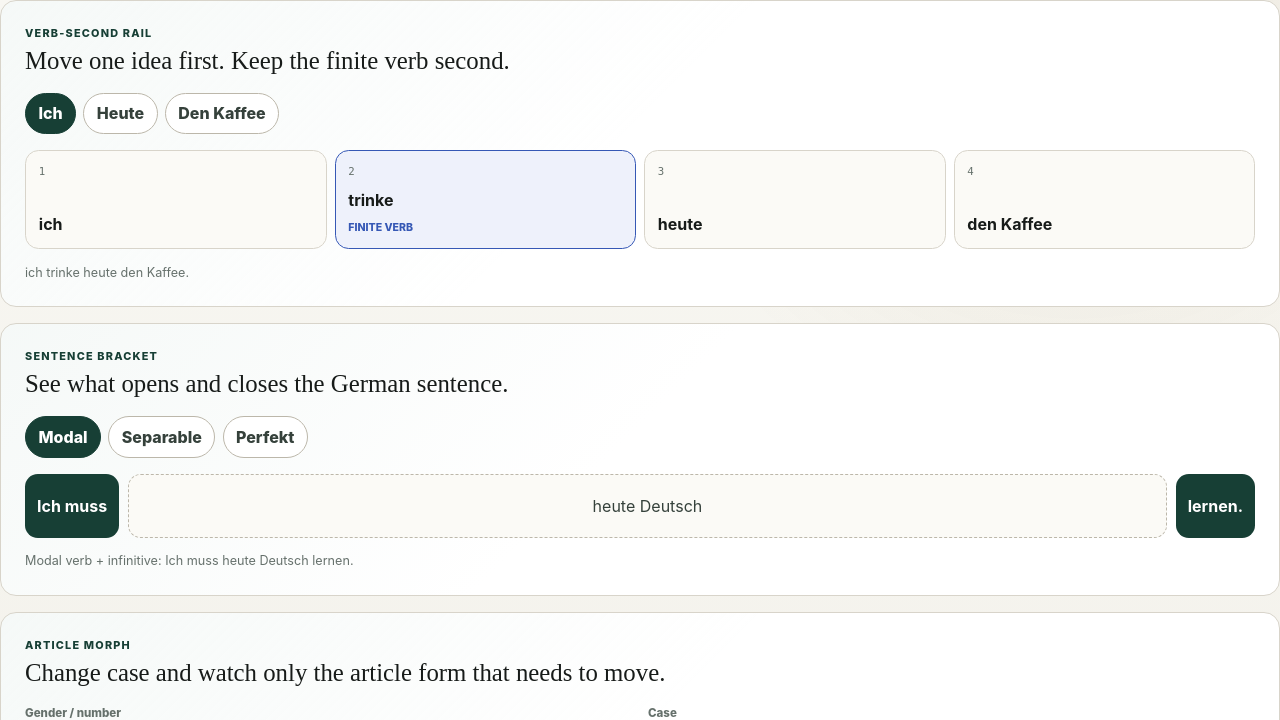
GrammarInteractionLab › moves a first-position chunk while keeping the verb second
This screenshot has width=1280, height=720.
Click the button "Heute".
click(121, 113)  # box [83,93,158,134]
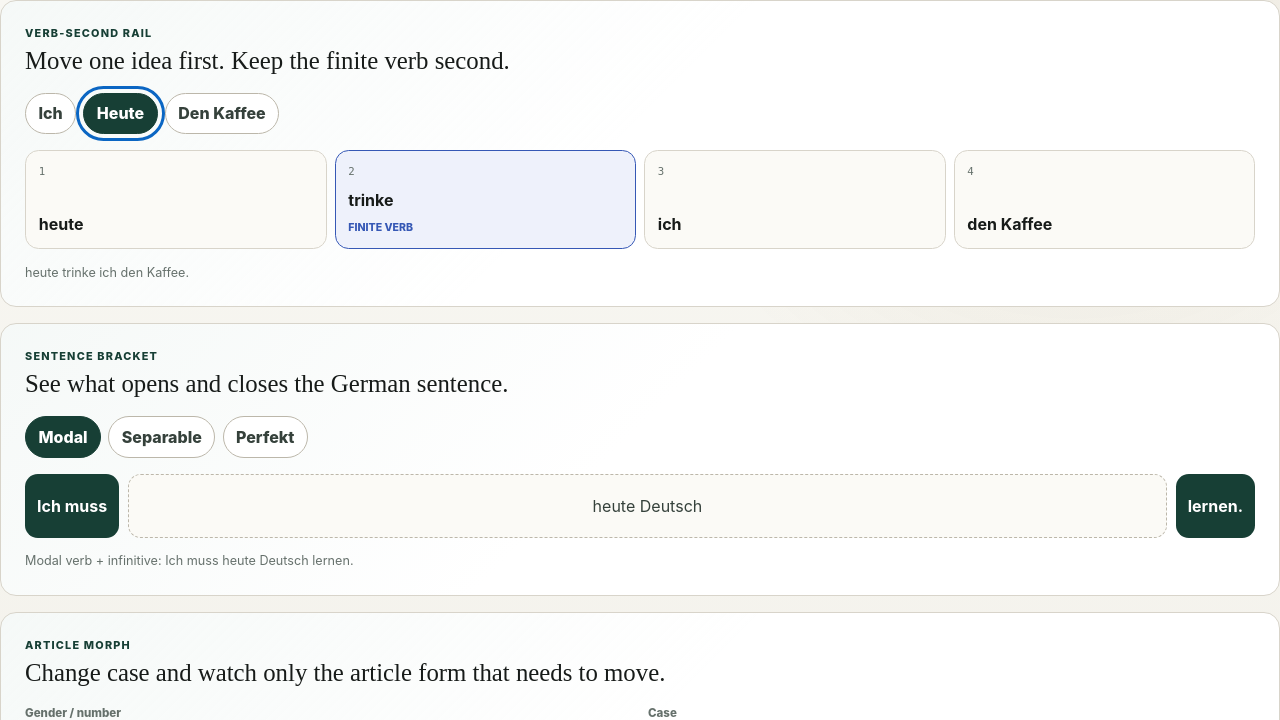
Result: the text "heute trinke ich den Kaffee." is shown at [25,265,189,280]
